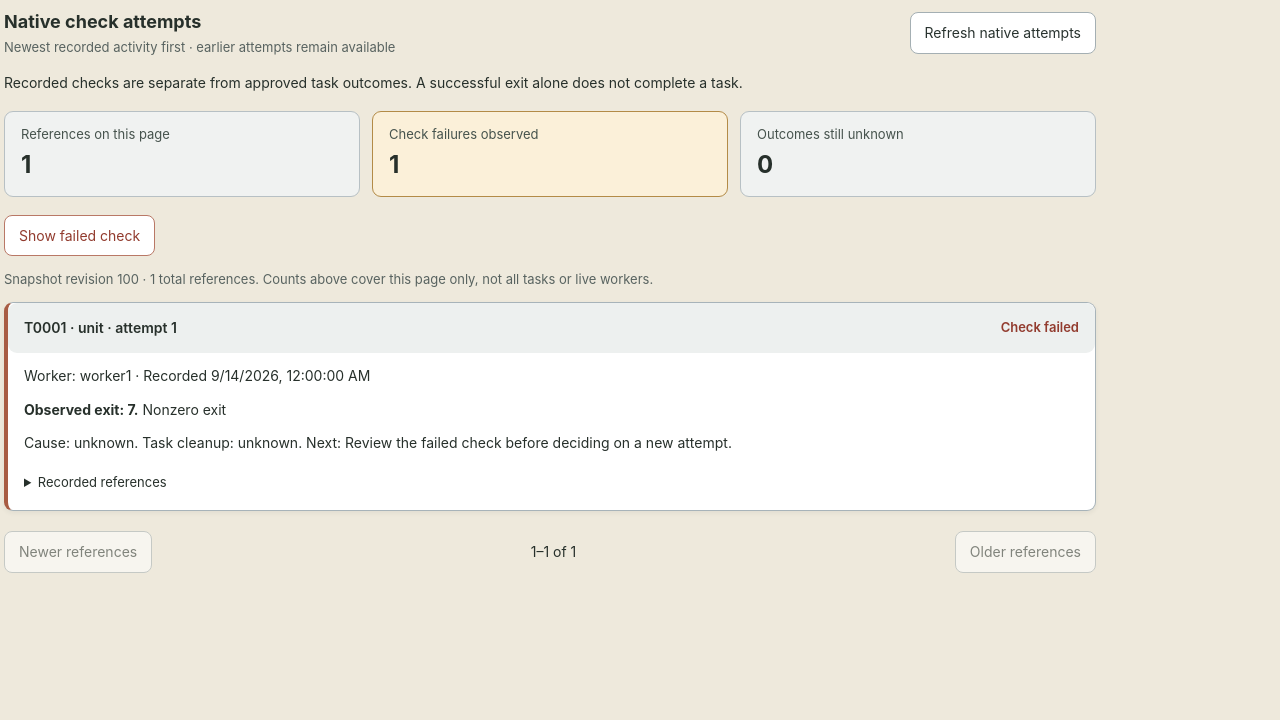
failed refresh removes stale results instead of retaining a last-known failure
expect the text "Check failed" is shown: met, box [1001,317,1079,339]
Click the button "Refresh native attempts" at (1003, 33), box [910,12,1096,54]
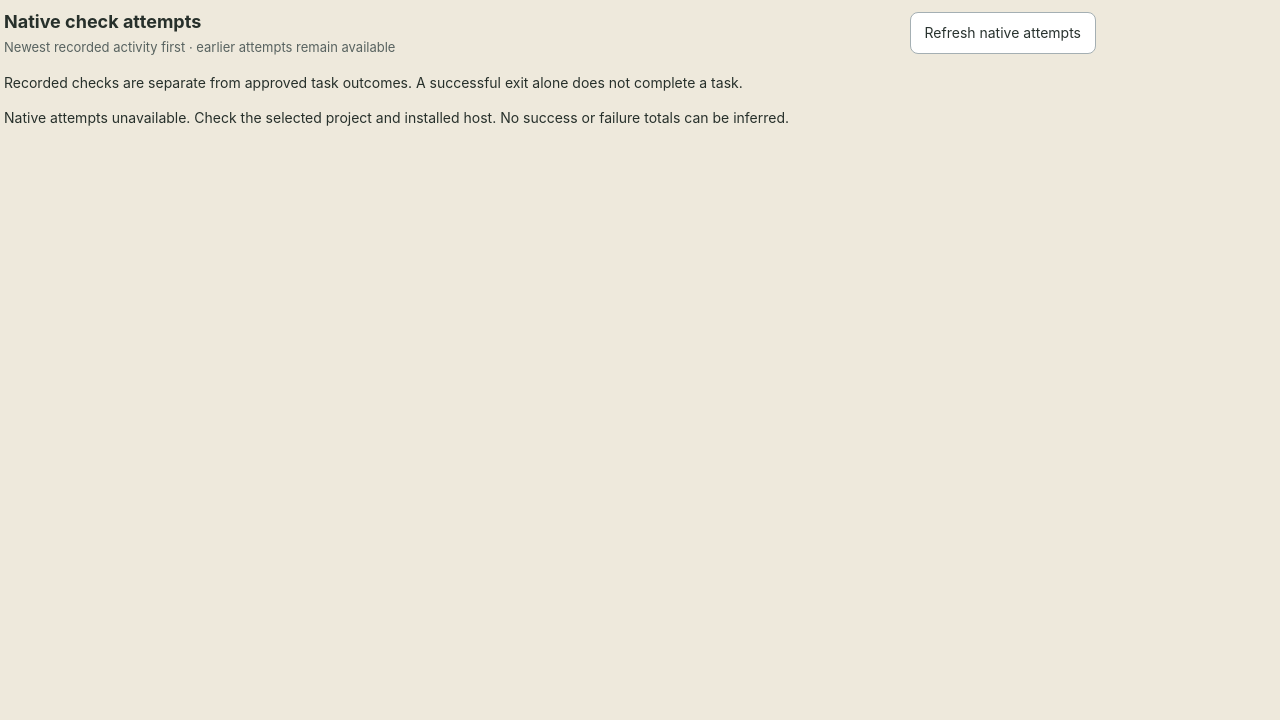
expect the text "Native attempts unavailable" is shown: met, box [4,109,496,126]
expect the heading "Check failed" is gone: met
